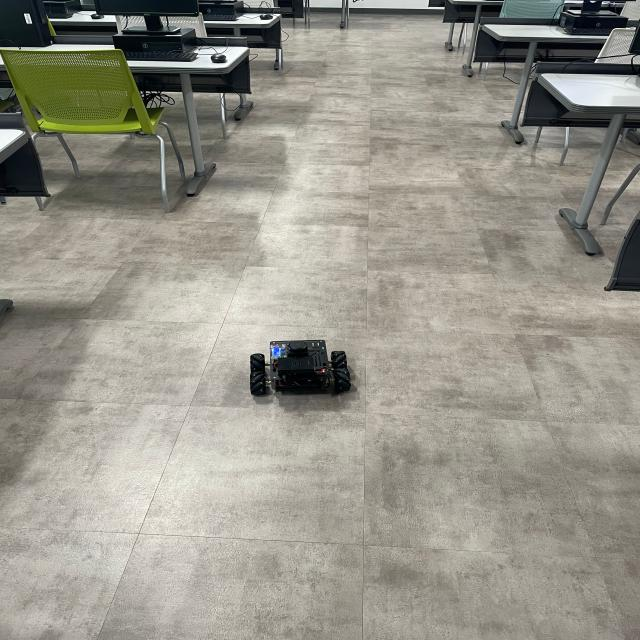ArduinoCar3: (246, 336, 354, 397)
